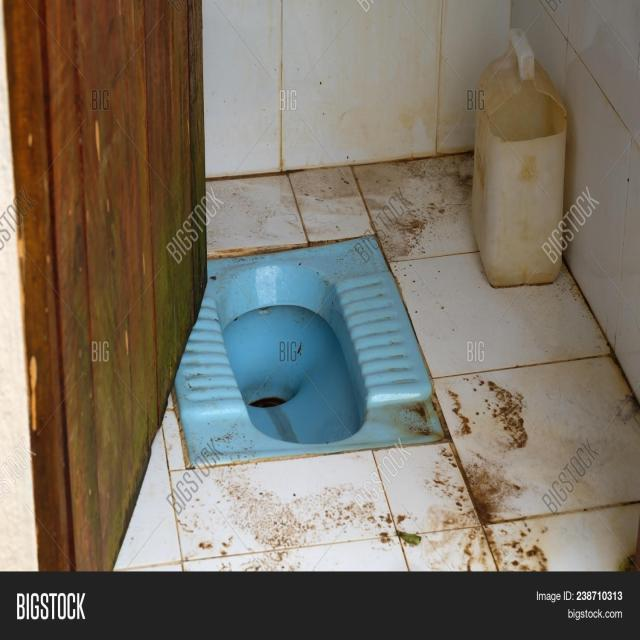damage: (172, 234, 443, 468), (469, 27, 569, 288)
dirty_floor: (112, 149, 639, 571), (0, 0, 208, 570), (433, 372, 547, 570), (482, 376, 530, 450), (247, 393, 287, 409)
